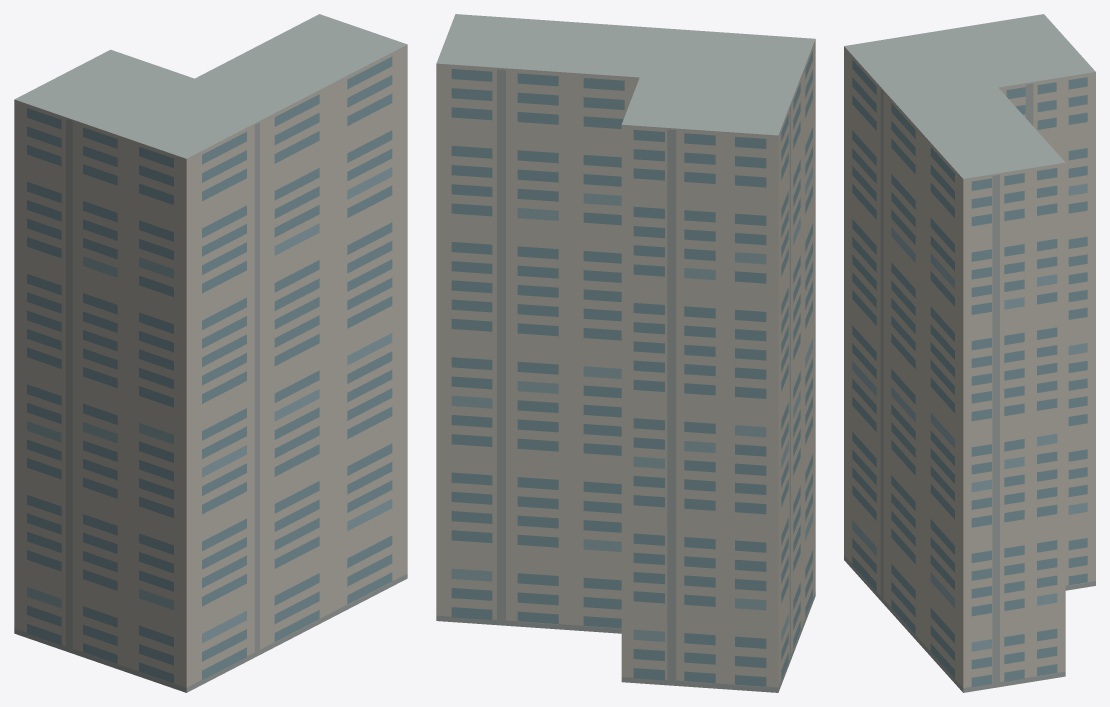
File: residential-812b93b2-58ce-4c9d-bd03-b82934641679.glb
3 renders of one model, left to right at view 1: azimuth 30°, elevation 25°; view 2: azimuth 150°, elevation 25°; view 3: azimuth 270°, elevation 25°, orthographic. The views are drawn at different scales.
Parts seen in each view (by area): view 1: residential-812b93b2-58ce-4c9d-bd03-b82934641679.tmp; view 2: residential-812b93b2-58ce-4c9d-bd03-b82934641679.tmp; view 3: residential-812b93b2-58ce-4c9d-bd03-b82934641679.tmp.
Part boxes in pixels (x1,y1,x2,y2): residential-812b93b2-58ce-4c9d-bd03-b82934641679.tmp: (14, 14, 407, 692); residential-812b93b2-58ce-4c9d-bd03-b82934641679.tmp: (436, 14, 815, 692); residential-812b93b2-58ce-4c9d-bd03-b82934641679.tmp: (844, 14, 1095, 692).
Bounding box in the file's own units: 56.46 × 82 × 36.43.
